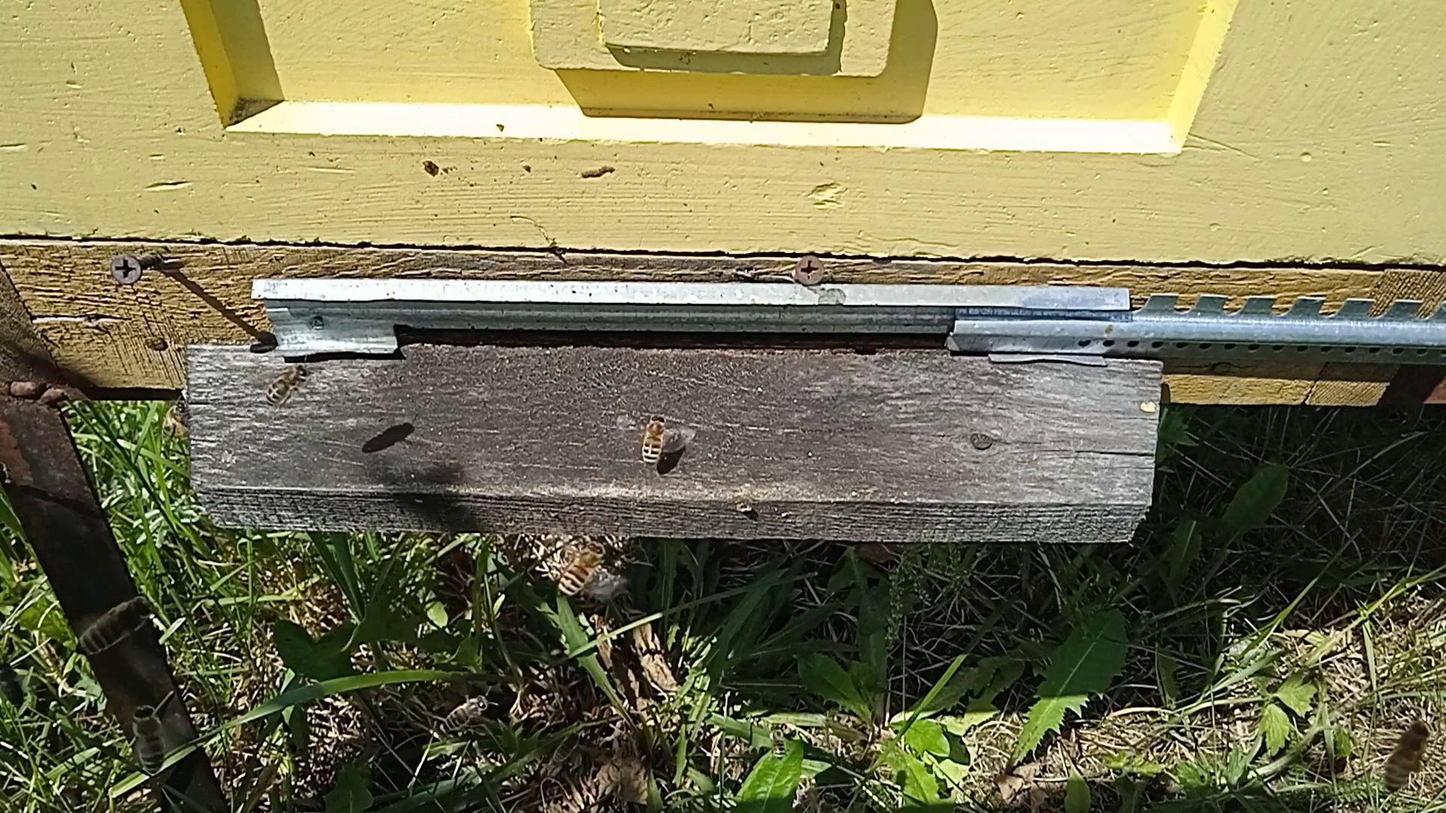worker-bee: (76, 595, 157, 656), (1382, 720, 1430, 794), (556, 537, 610, 596), (130, 704, 166, 775), (264, 363, 310, 406), (441, 695, 491, 732), (639, 414, 669, 465), (1, 661, 25, 708), (162, 400, 187, 440), (819, 793, 840, 813)
